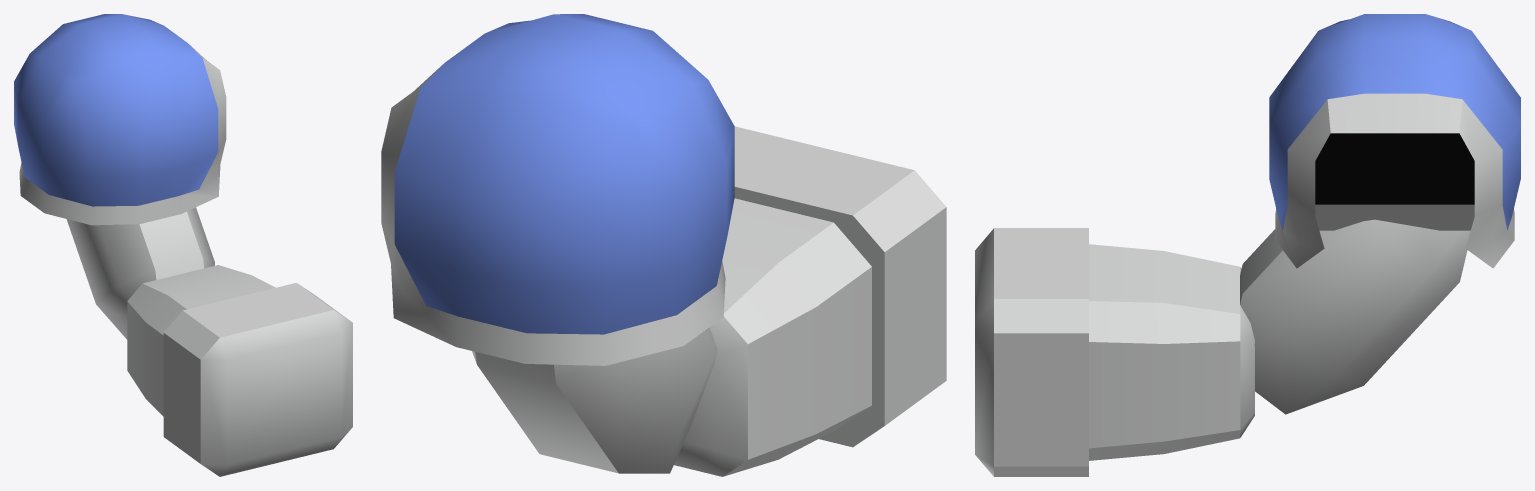
File: Arm_R.fbx
The picture shows the model from 3 angles, left to right: view 1: azimuth 30°, elevation 25°; view 2: azimuth 150°, elevation 25°; view 3: azimuth 270°, elevation 25°; orthographic projection. The views are drawn at different scales.
Parts seen in each view (by area): view 1: Arm_R; view 2: Arm_R; view 3: Arm_R.
Boxes of the visible parts, box(x1,y1,x2,y2) form: Arm_R: box(14, 14, 352, 476); Arm_R: box(381, 14, 946, 476); Arm_R: box(975, 14, 1520, 476).
Bounding box in the file's own units: 0.2231 × 0.4147 × 0.4994.
